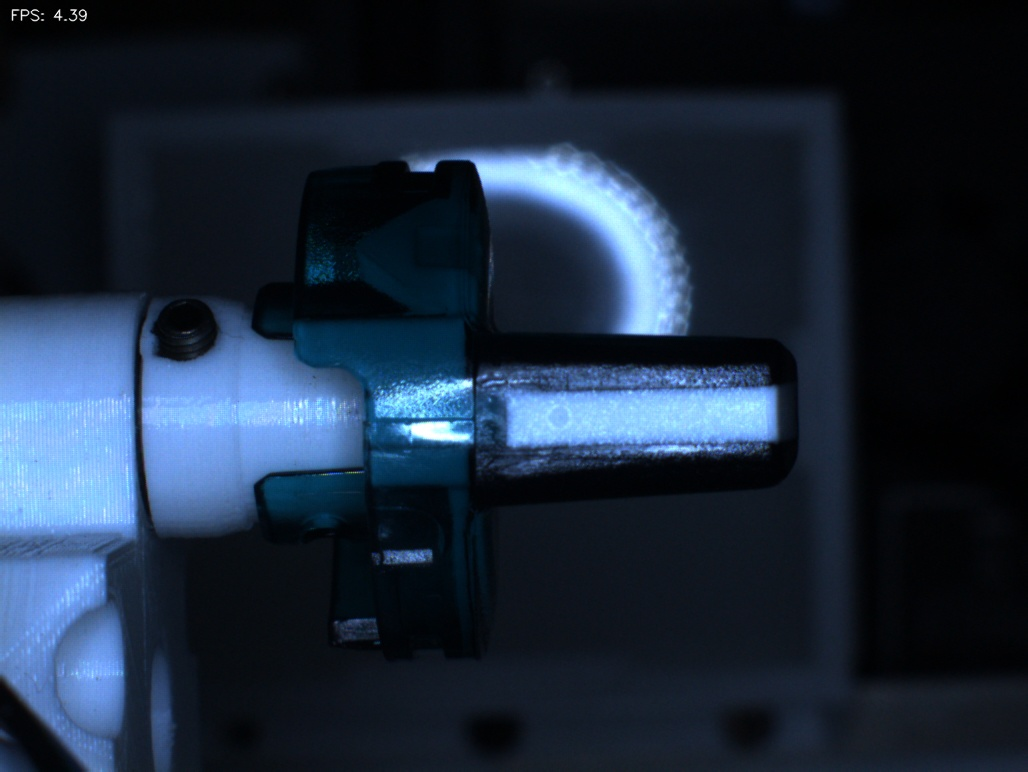DentOk: (335, 221, 396, 297)
